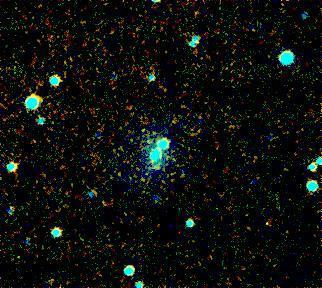star: (141, 152, 171, 182)
